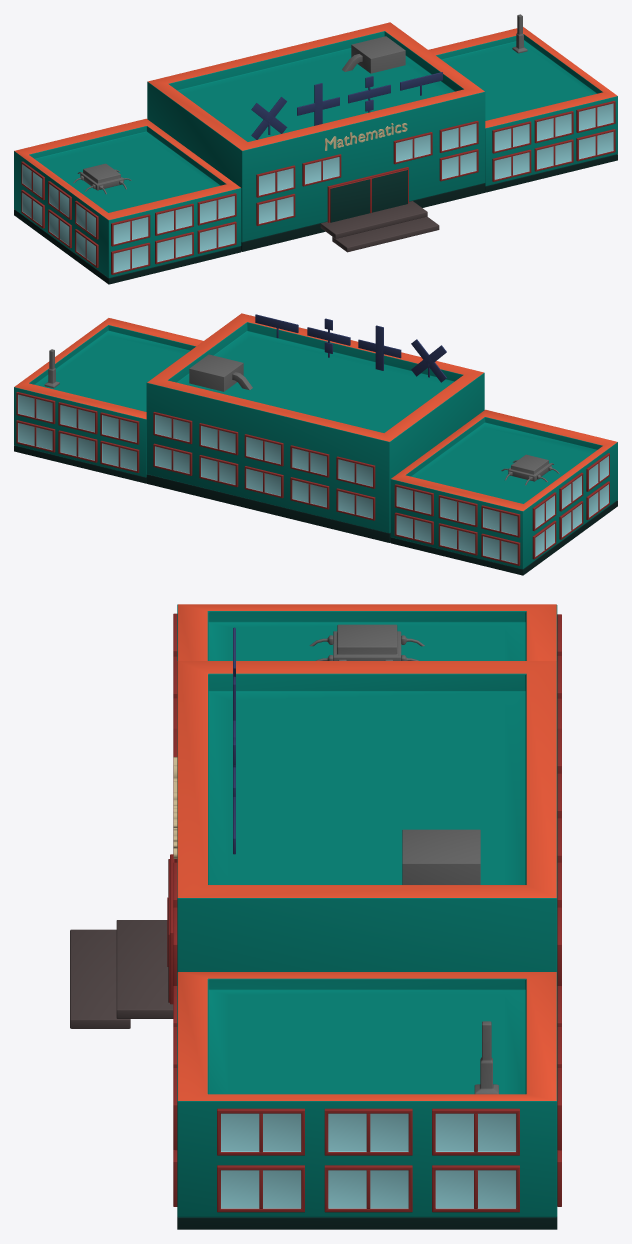
The model's file is MatematicaLevel3.fbx.
3 views of the same model, one above another, from view 1: azimuth 30°, elevation 25°; view 2: azimuth 150°, elevation 25°; view 3: azimuth 270°, elevation 25° (orthographic). The views are drawn at different scales.
Visible parts, largest first — view 1: Predio_matematica_nivel_03, Janelas_predio_03, Texto_Mathematics_nivel_03; view 2: Predio_matematica_nivel_03, Janelas_predio_03; view 3: Predio_matematica_nivel_03, Janelas_predio_03.
Boxes of the visible parts, x1,y1,x2,y2 form: Predio_matematica_nivel_03: [14, 14, 617, 284]; Janelas_predio_03: [21, 36, 615, 274]; Texto_Mathematics_nivel_03: [325, 123, 407, 150]; Predio_matematica_nivel_03: [14, 313, 617, 575]; Janelas_predio_03: [16, 314, 609, 565]; Predio_matematica_nivel_03: [70, 604, 557, 1229]; Janelas_predio_03: [167, 613, 561, 1212].
Bounding box in the file's own units: 3126 × 788 × 1297.
